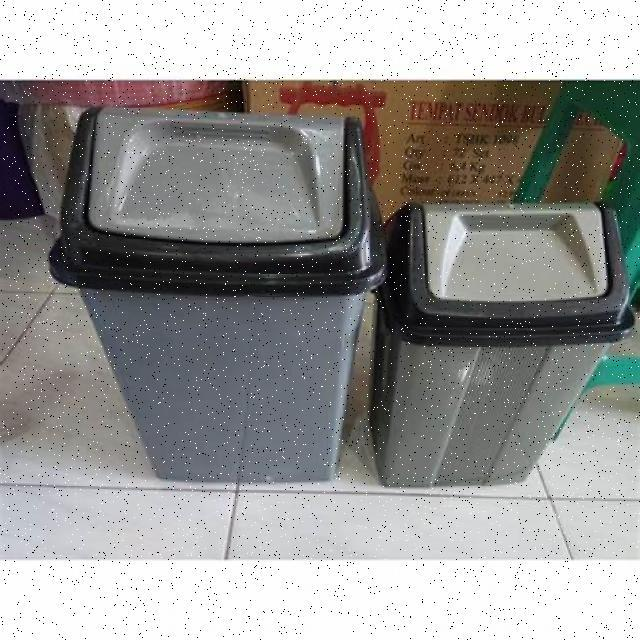garbage container: (61, 86, 382, 496), (389, 185, 640, 497)
